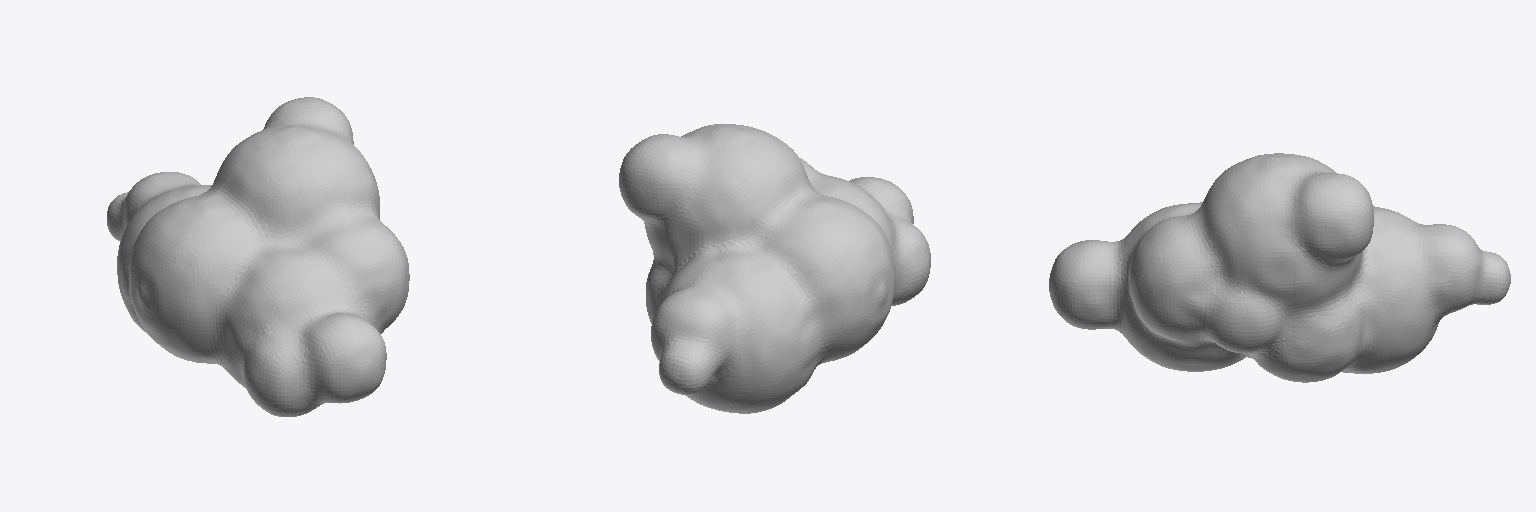
The model's file is Skin_nube002.OBJ.
The picture shows the model from 3 angles: view 1: azimuth 30°, elevation 25°; view 2: azimuth 150°, elevation 25°; view 3: azimuth 270°, elevation 25°; orthographic projection.
Parts seen in each view (by area): view 1: ZBrush_defualt_group; view 2: ZBrush_defualt_group; view 3: ZBrush_defualt_group.
Boxes of the visible parts, x1,y1,x2,y2 form: ZBrush_defualt_group: [107, 97, 409, 416]; ZBrush_defualt_group: [619, 124, 930, 413]; ZBrush_defualt_group: [1049, 153, 1510, 382].
Size of the model in its own units: 1.68 by 1.6 by 2.9.